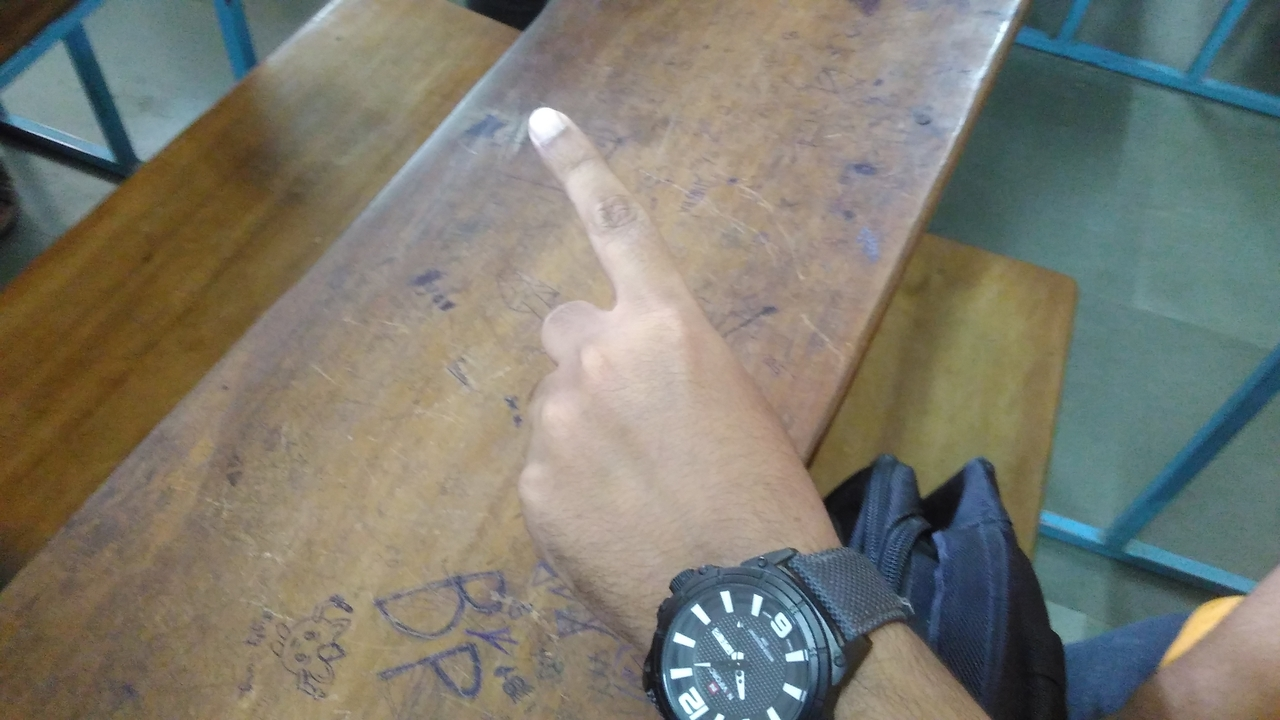fingertip: (518, 102, 590, 162)
